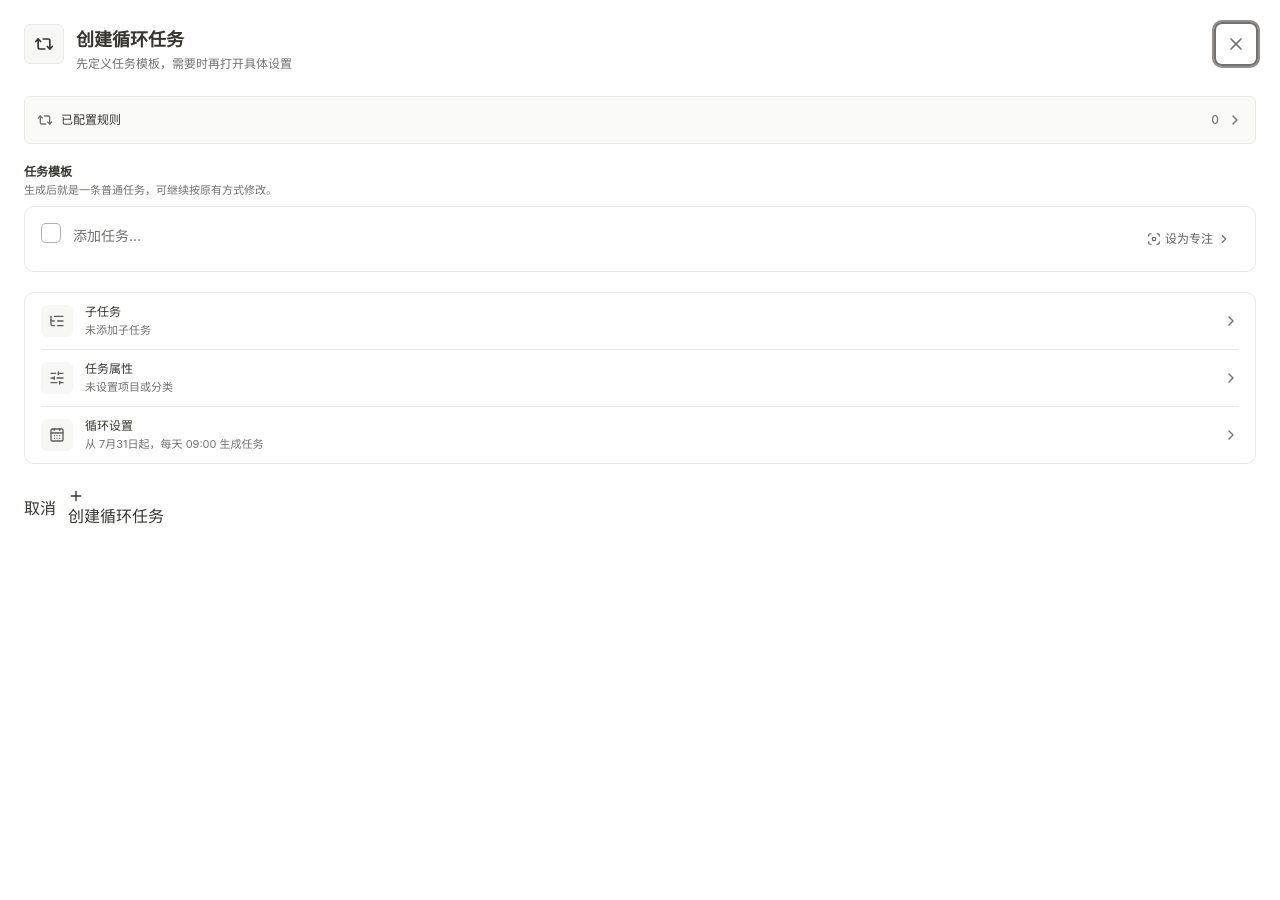
AddRecurringTaskModal › keeps the form open and explains a failed creation
In the field named "任务名称": (600, 235) [71,219,1129,251], type "每日复习"
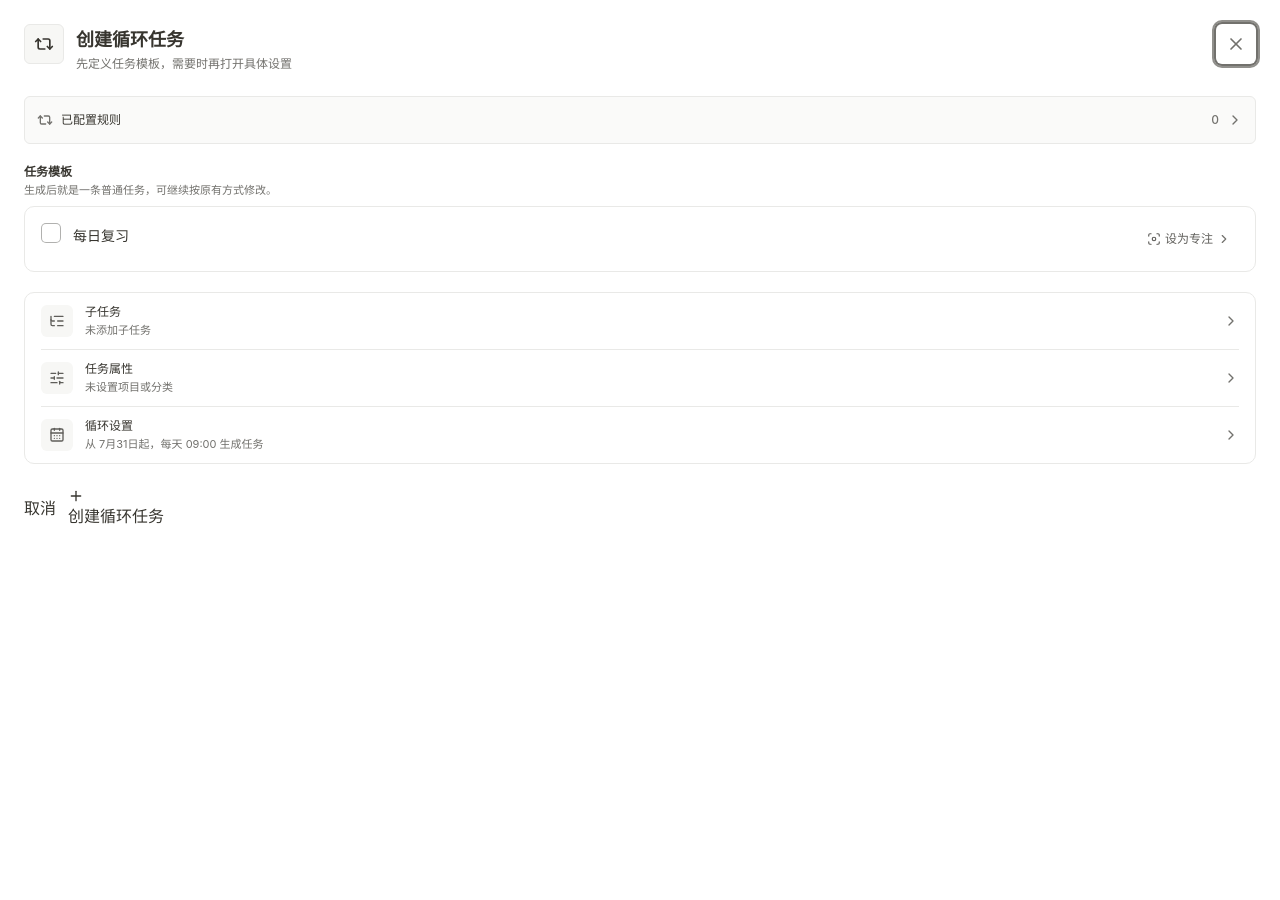
Click the button "创建循环任务": click(116, 508) [68,488,164,528]
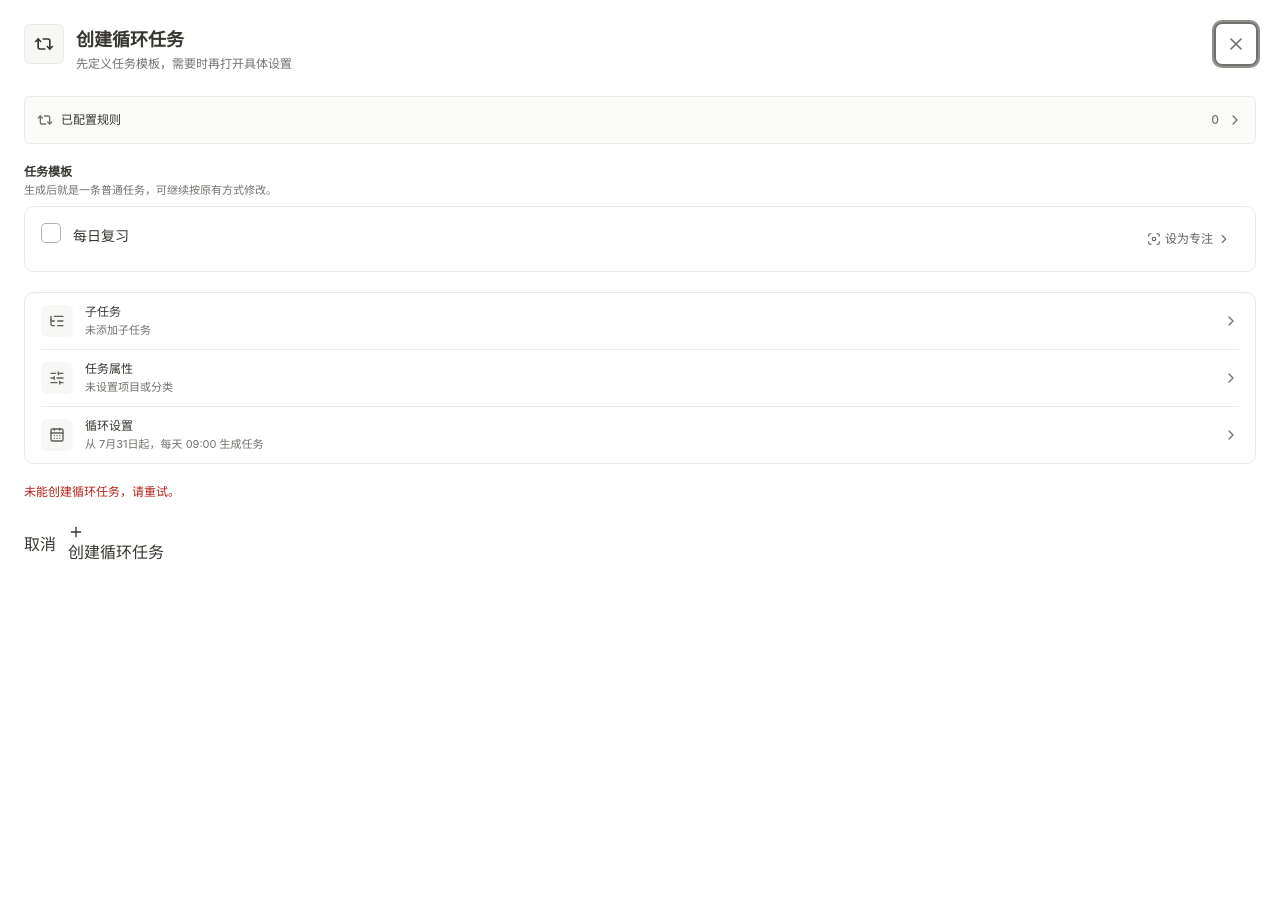
Check: the message reads "未能创建循环任务，请重试。", box [24,484,180,499]
